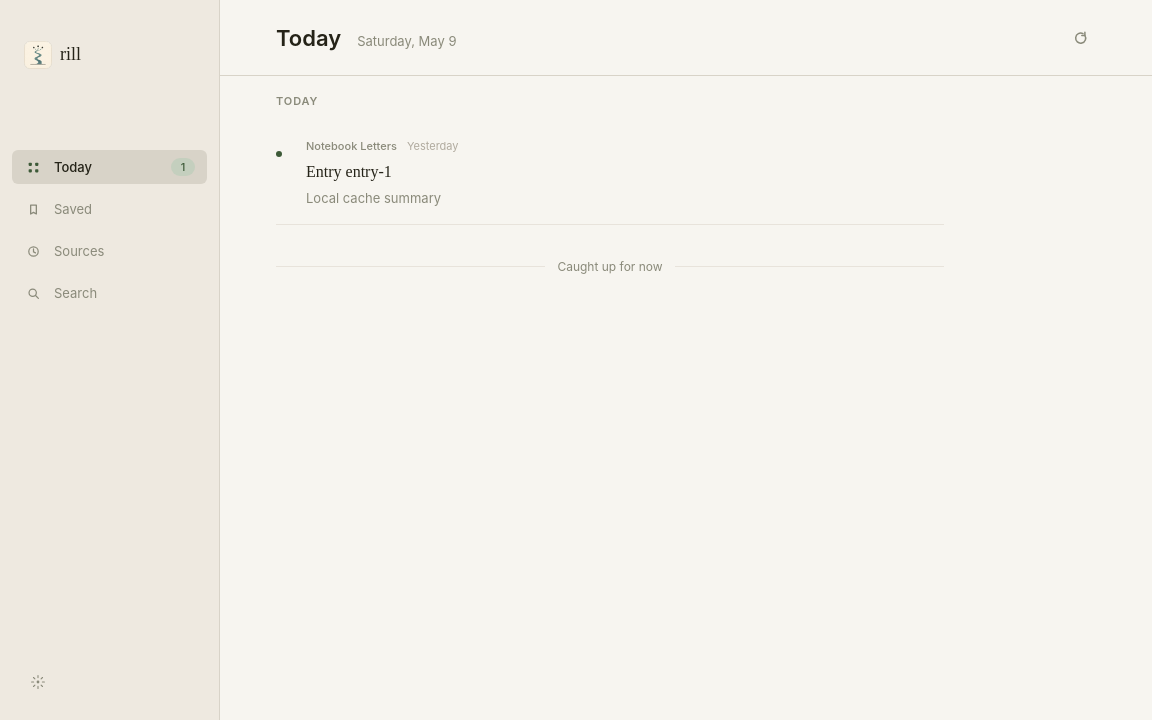
Test: Sources, Search, and image loading › renders live source rows instead of sample sources
Click the button with aria-label "Sources" at (110, 251), box [12,234,207,268]
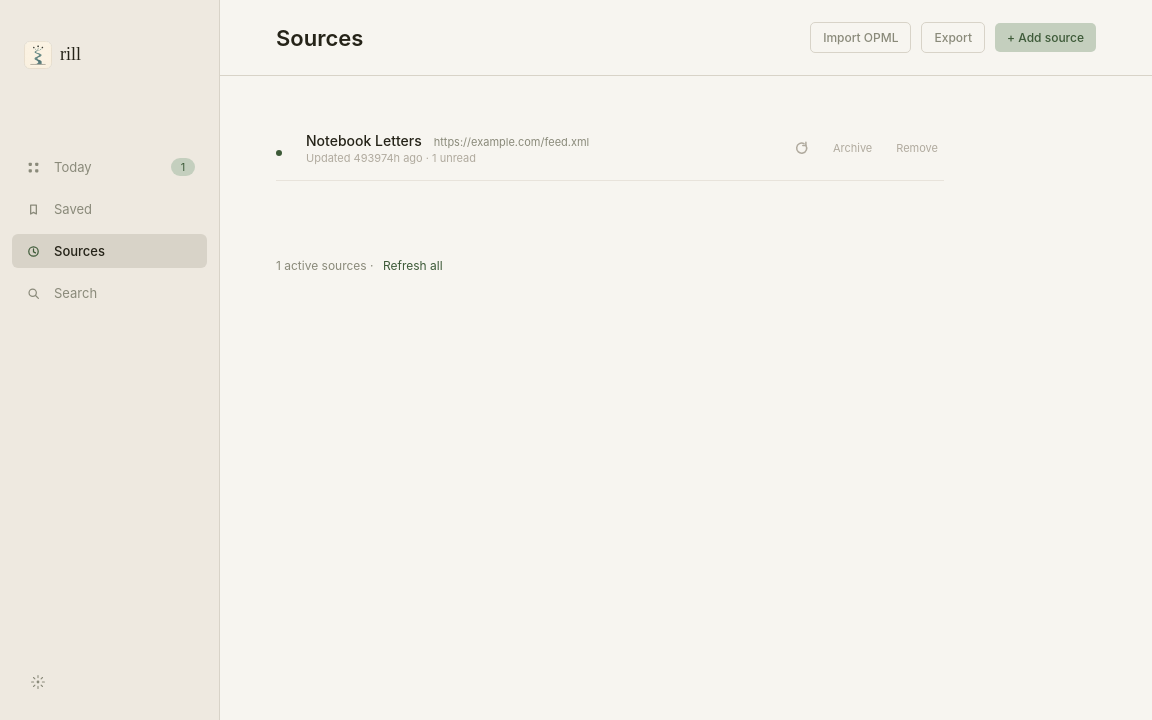
Expected: the text "Notebook Letters" is shown, [306,132,422,149]
Expected: the text "https://example.com/feed.xml" is shown, [434,135,589,149]
